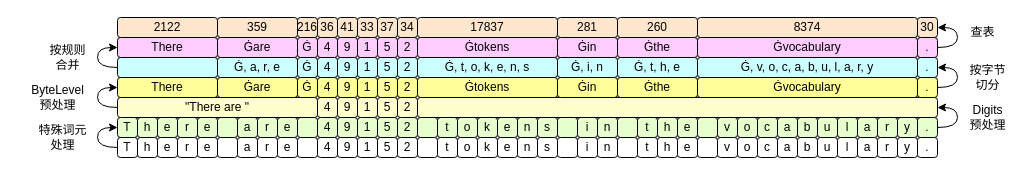
This 1034x175 diagram has some shape labels left out. Here are the shapes that lost their labels. From the top down, the centre of each, then its label:
point (167, 67): T, h, e, r, e
point (677, 107): " tokens in the vocabulary "
